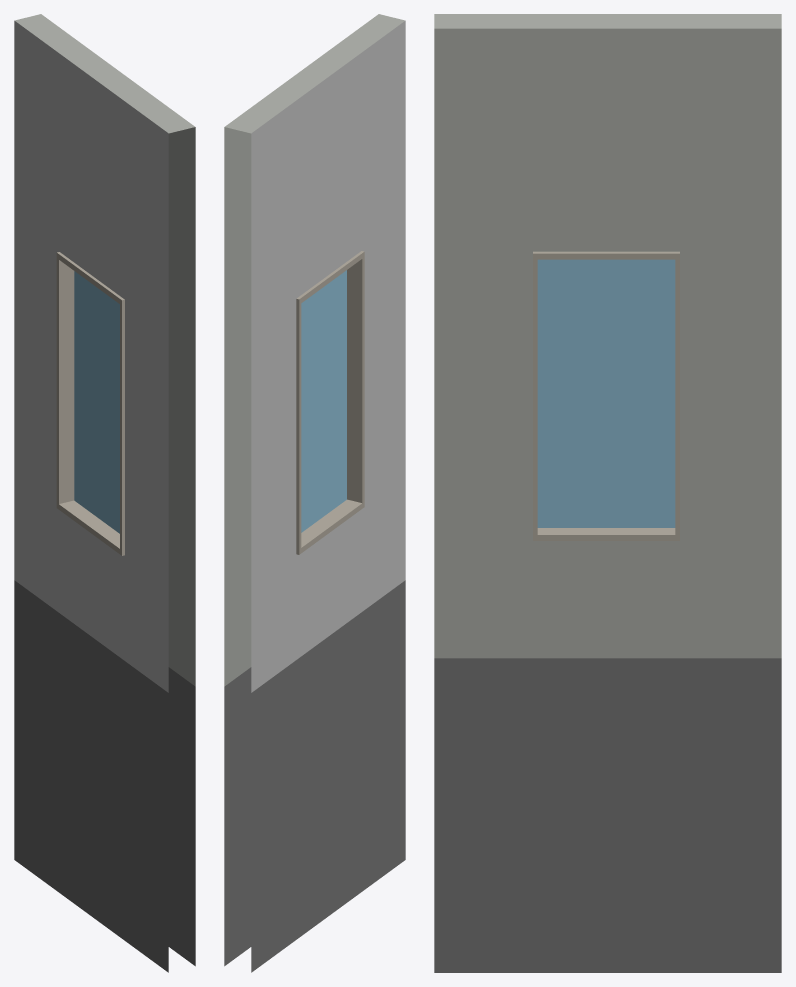
Rendered from SM_Wall_Window_01.fbx.
3 views of the same model, side by side, from view 1: azimuth 30°, elevation 25°; view 2: azimuth 150°, elevation 25°; view 3: azimuth 270°, elevation 25° (orthographic). The views are drawn at different scales.
Visible parts, largest first — view 1: SM_Wall_Window_01; view 2: SM_Wall_Window_01; view 3: SM_Wall_Window_01.
Boxes of the visible parts, box(x1,y1,x2,y2) form: SM_Wall_Window_01: box(14, 14, 195, 972); SM_Wall_Window_01: box(224, 14, 405, 972); SM_Wall_Window_01: box(434, 14, 781, 972).
Bounding box in the file's own units: 12.34 × 300 × 100.
